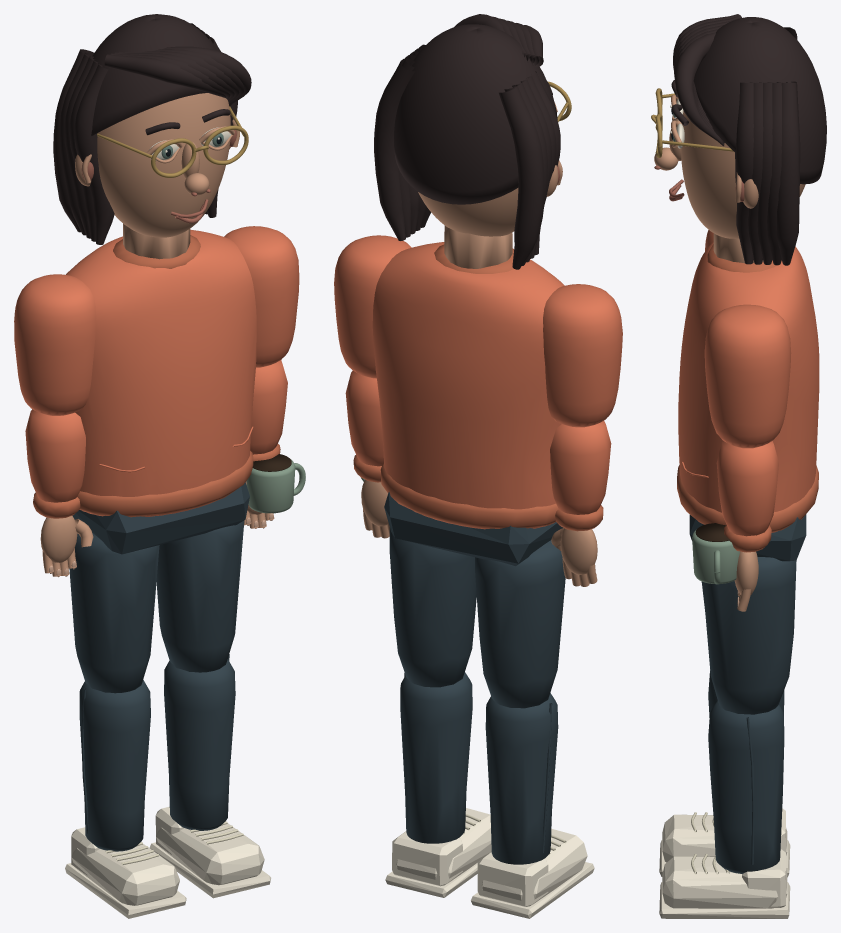
File: ada.glb
3 renders of one model, left to right at view 1: azimuth 30°, elevation 25°; view 2: azimuth 150°, elevation 25°; view 3: azimuth 270°, elevation 25°, orthographic.
Parts seen in each view (by area): view 1: Ada_Sweater, Ada_Brow, Ada_Face, Ada_Upper trouserL, Ada_Upper trouserR, Ada_Lower trouserL, Ada_Lower trouserR, Ada_SleeveL, Ada_SleeveR, Ada_ShoeL, Ada_ShoeR, Ada_Pelvis (+8 smaller); view 2: Ada_Sweater, Ada_Brow, Ada_Upper trouserL, Ada_Upper trouserR, Ada_Lower trouserR, Ada_Lower trouserL, Ada_SleeveL, Ada_ShoeL, Ada_SleeveR, Ada_ShoeR, Ada_Pelvis, Ada_Long sleeveL (+7 smaller); view 3: Ada_Brow, Ada_Sweater, Ada_Lower trouserR, Ada_Upper trouserR, Ada_SleeveR, Ada_ShoeR, Ada_Face, Ada_Long sleeveR, Ada_ShoeL, Ada_Hem, Ada_Ceramic cup, Ada_Pelvis (+5 smaller).
Boxes of the visible parts, left/top/right/bottom form: Ada_Sweater: left=66, top=229, right=256, bottom=516; Ada_Brow: left=53, top=14, right=251, bottom=244; Ada_Face: left=75, top=93, right=239, bottom=237; Ada_Upper trouserL: left=69, top=533, right=159, bottom=693; Ada_Upper trouserR: left=156, top=520, right=244, bottom=672; Ada_Lower trouserL: left=79, top=680, right=150, bottom=851; Ada_Lower trouserR: left=164, top=654, right=235, bottom=830; Ada_SleeveL: left=14, top=274, right=96, bottom=415; Ada_SleeveR: left=224, top=226, right=299, bottom=367; Ada_ShoeL: left=65, top=827, right=186, bottom=918; Ada_ShoeR: left=149, top=806, right=270, bottom=898; Ada_Pelvis: left=72, top=482, right=249, bottom=554; Ada_Sweater: left=372, top=242, right=564, bottom=529; Ada_Brow: left=374, top=14, right=560, bottom=269; Ada_Upper trouserL: left=475, top=540, right=565, bottom=708; Ada_Upper trouserR: left=389, top=527, right=476, bottom=687; Ada_Lower trouserR: left=400, top=672, right=472, bottom=843; Ada_Lower trouserL: left=485, top=693, right=558, bottom=864; Ada_SleeveL: left=543, top=284, right=622, bottom=427; Ada_ShoeL: left=471, top=828, right=594, bottom=918; Ada_SleeveR: left=334, top=235, right=411, bottom=378; Ada_ShoeR: left=385, top=808, right=491, bottom=897; Ada_Pelvis: left=384, top=492, right=563, bottom=566; Ada_Long sleeveL: left=550, top=421, right=611, bottom=514; Ada_Brow: left=671, top=14, right=826, bottom=265; Ada_Sweater: left=678, top=242, right=819, bottom=532; Ada_Lower trouserR: left=708, top=701, right=784, bottom=873; Ada_Upper trouserR: left=701, top=557, right=796, bottom=714; Ada_SleeveR: left=704, top=304, right=791, bottom=448; Ada_ShoeR: left=659, top=849, right=790, bottom=918; Ada_Face: left=654, top=111, right=805, bottom=238; Ada_Long sleeveR: left=716, top=441, right=778, bottom=536; Ada_ShoeL: left=659, top=808, right=790, bottom=877; Ada_Hem: left=677, top=244, right=818, bottom=531; Ada_Ceramic cup: left=692, top=529, right=740, bottom=584; Ada_Pelvis: left=689, top=514, right=806, bottom=561.
Bounding box in the file's own units: 0.6823 × 2.02 × 0.3737.
